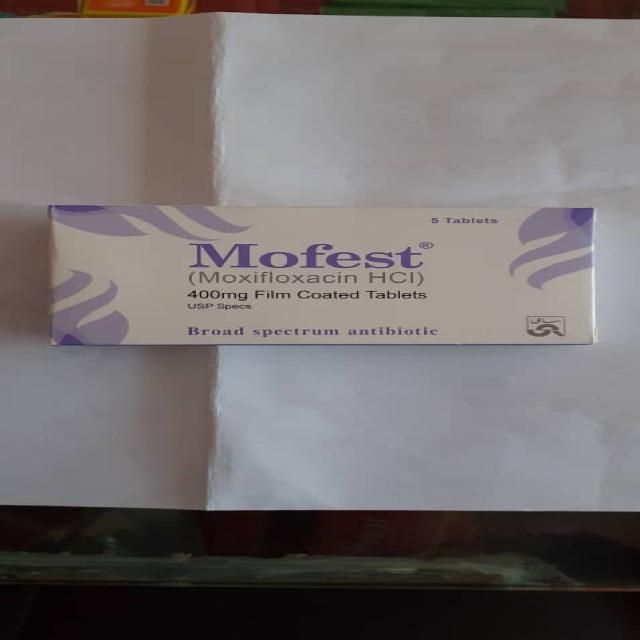drug-name: (188, 238, 423, 272)
